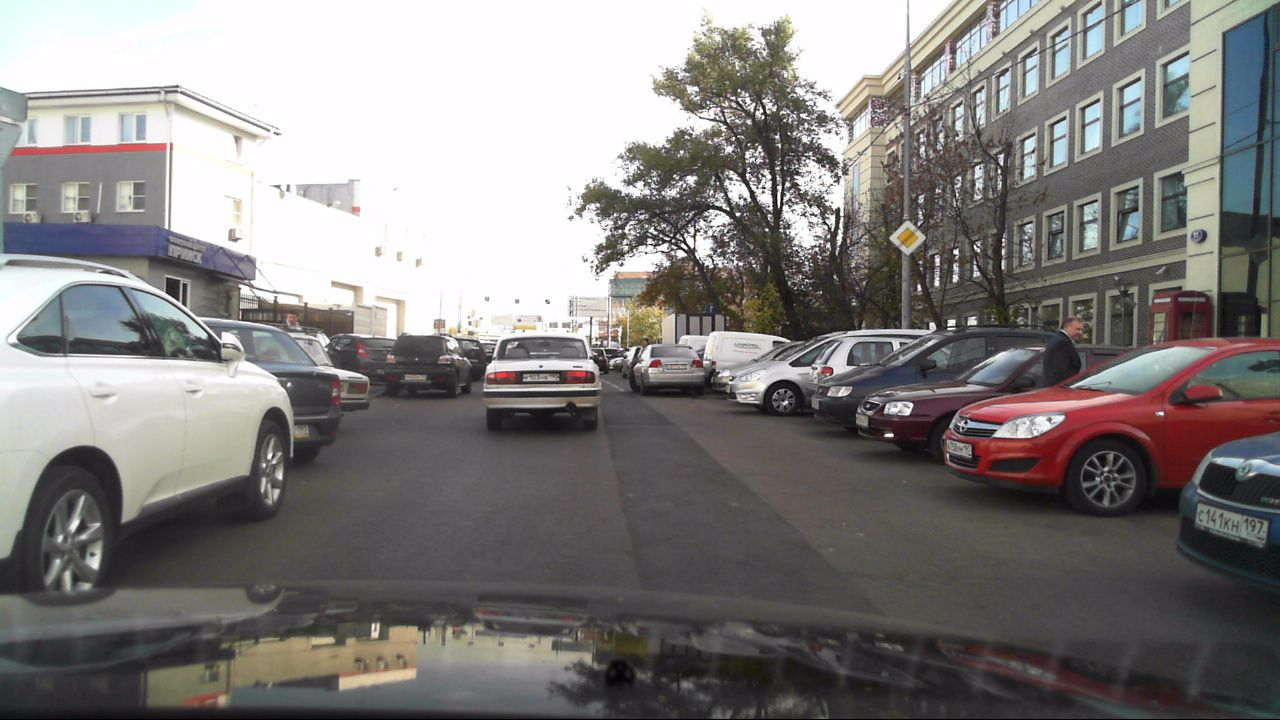main road: (886, 218, 925, 256)
